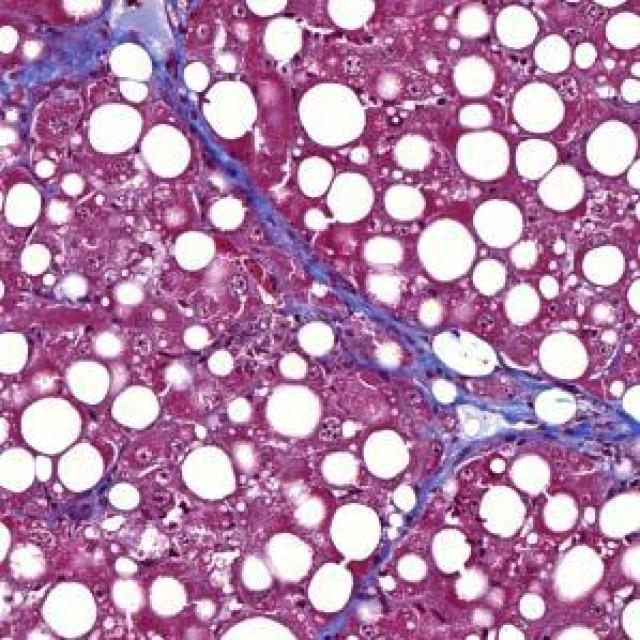fibrosis: (383, 347, 632, 460)
